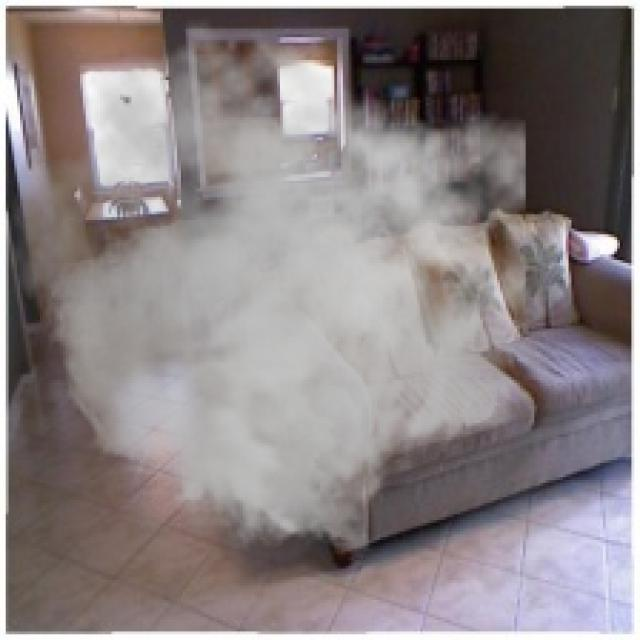smoke: (8, 17, 526, 560)
